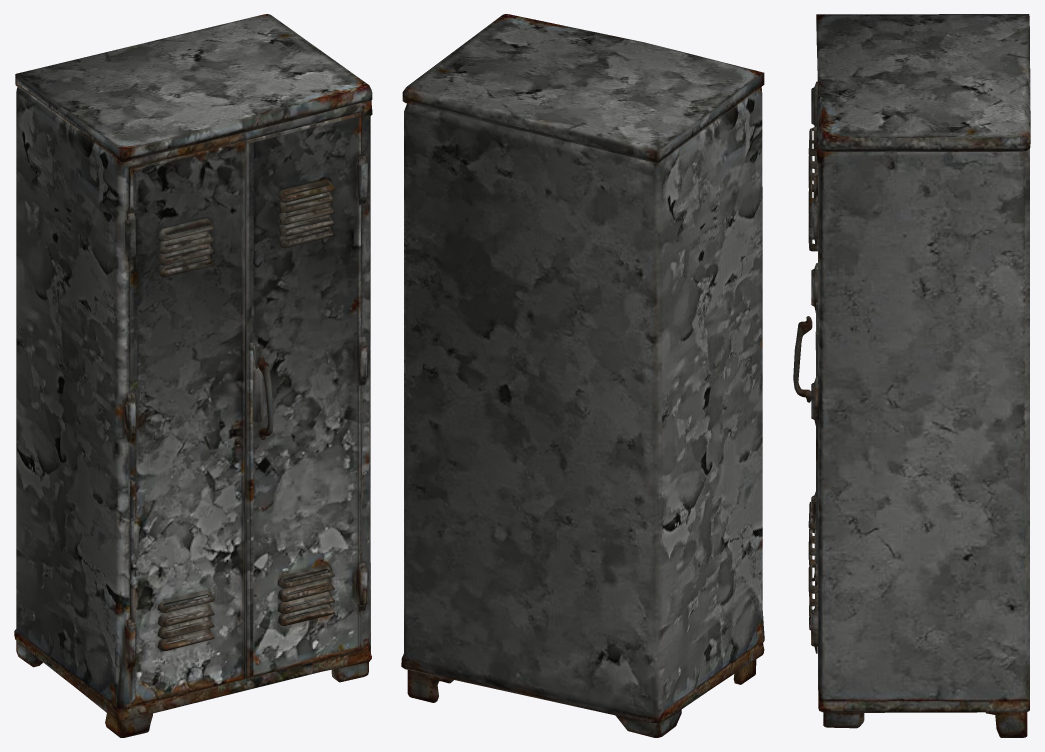
Rendered from prop_cabinet.glb.
3 views of the same model, side by side, from view 1: azimuth 30°, elevation 25°; view 2: azimuth 150°, elevation 25°; view 3: azimuth 270°, elevation 25° (orthographic).
Visible parts, largest first — view 1: tripo_node_ae7d05aa-dfa7-4a2d-a2d5-074f51c8a15e; view 2: tripo_node_ae7d05aa-dfa7-4a2d-a2d5-074f51c8a15e; view 3: tripo_node_ae7d05aa-dfa7-4a2d-a2d5-074f51c8a15e.
Part boxes in pixels (x1=…): tripo_node_ae7d05aa-dfa7-4a2d-a2d5-074f51c8a15e: x1=14, y1=14, x2=372, y2=737; tripo_node_ae7d05aa-dfa7-4a2d-a2d5-074f51c8a15e: x1=401, y1=14, x2=764, y2=737; tripo_node_ae7d05aa-dfa7-4a2d-a2d5-074f51c8a15e: x1=793, y1=14, x2=1030, y2=737.
Bounding box in the file's own units: 0.8287 × 1.85 × 0.6588.
Materials: 1 (1 with a texture image).
